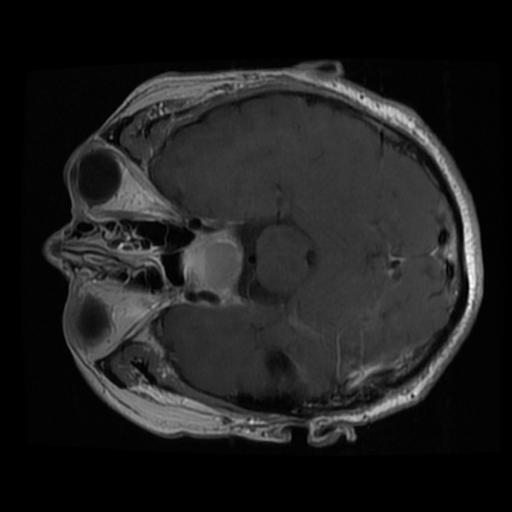pituitary tumour: (182, 229, 244, 305)
